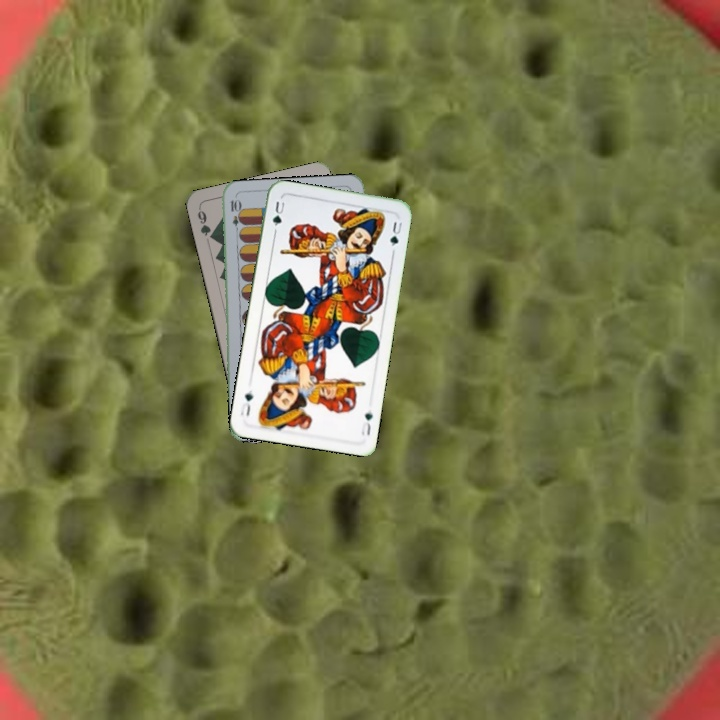E10: (226, 195, 242, 236)
G9: (193, 204, 217, 243)
GU: (268, 197, 288, 235), (357, 409, 375, 439)
